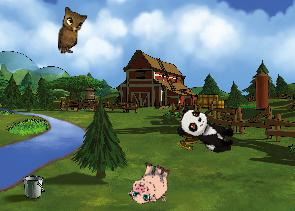owl: (58, 7, 87, 54)
panda: (173, 104, 240, 157)
pig: (126, 158, 174, 209)
